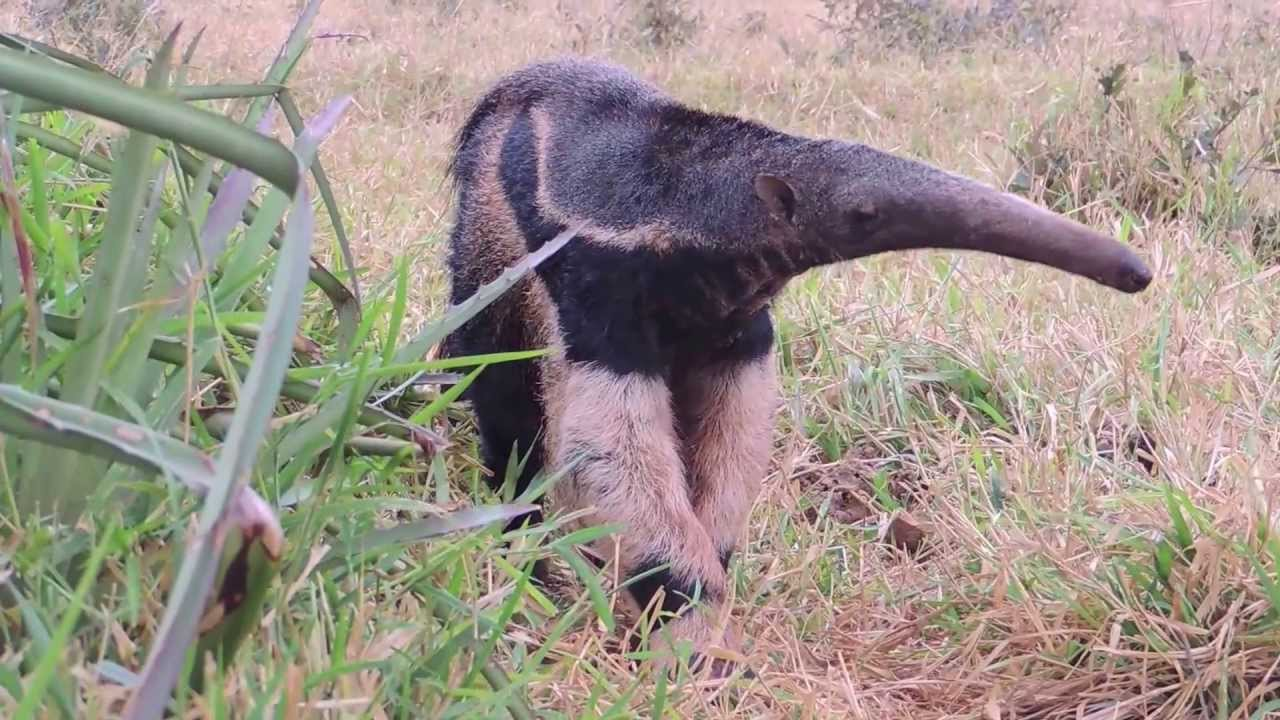TamanduaBandeira: (438, 52, 1158, 664)
